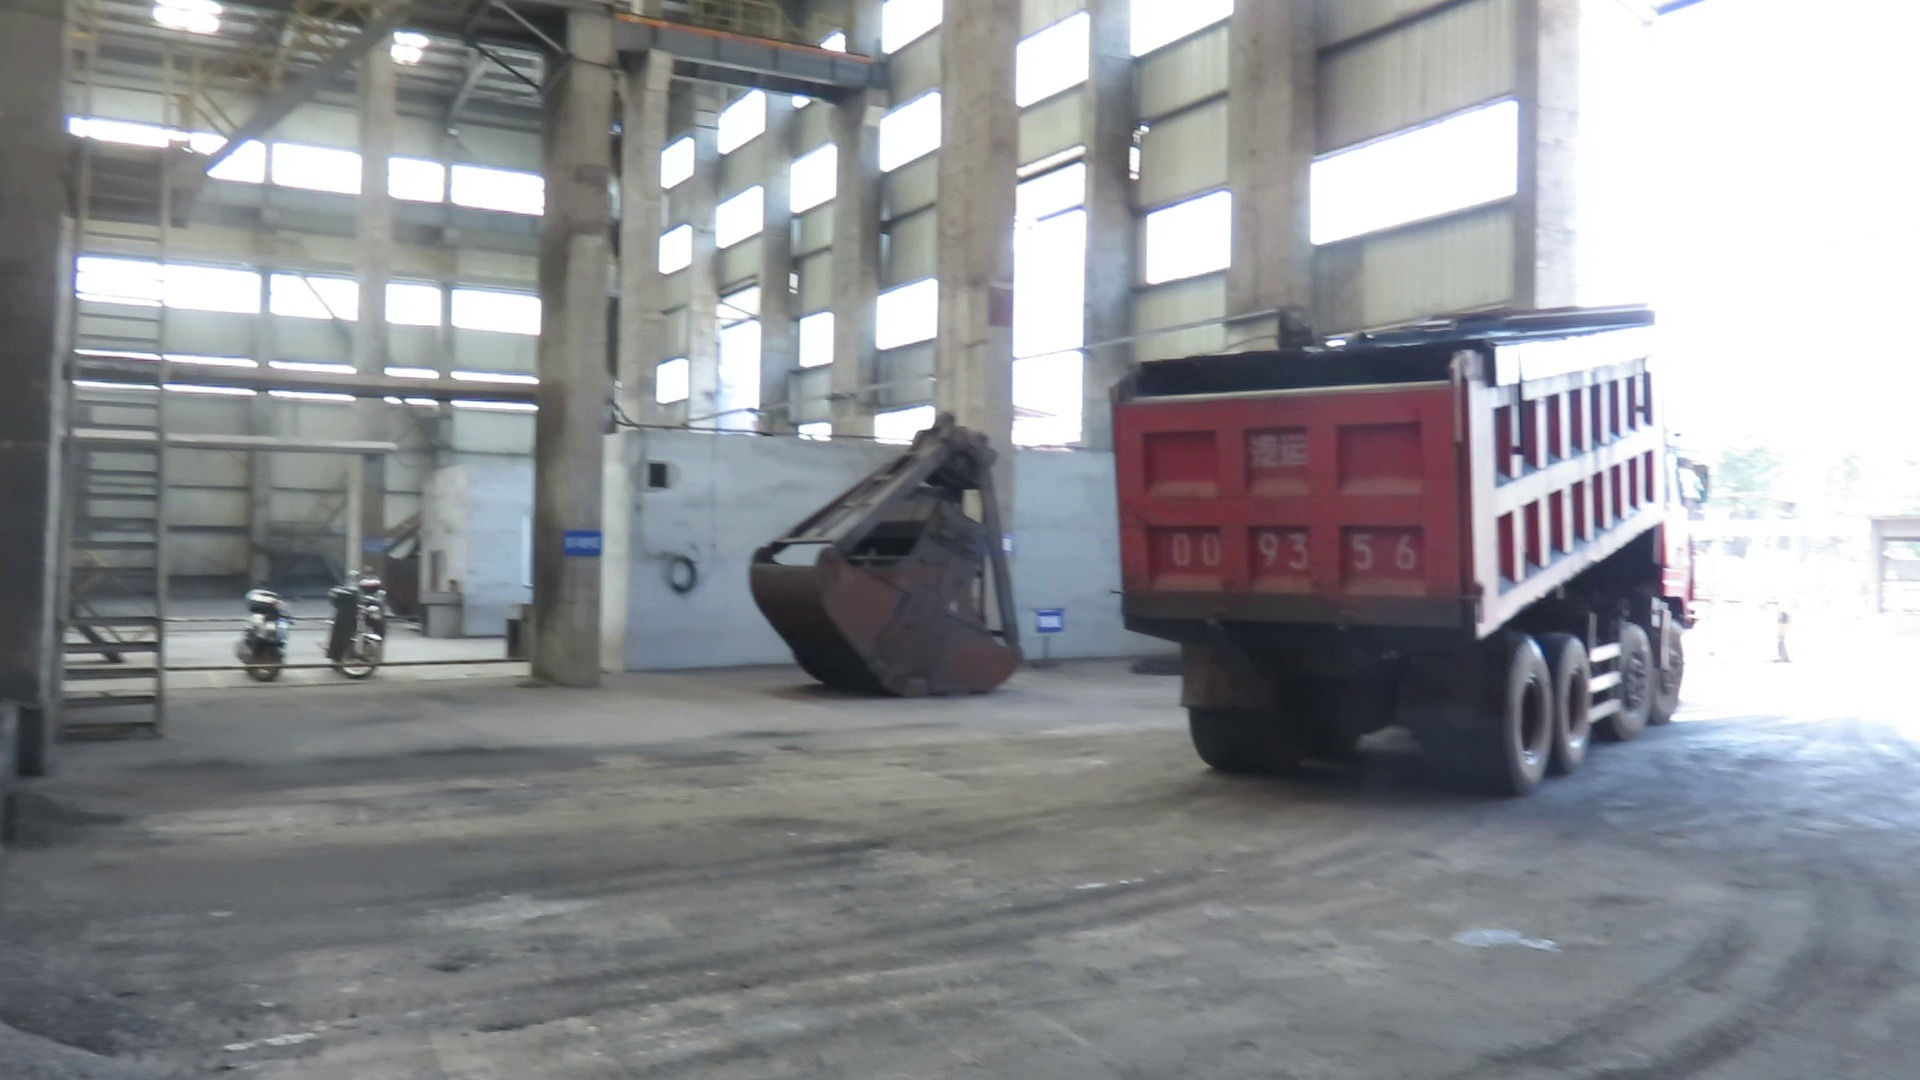truck: (1102, 287, 1706, 808)
